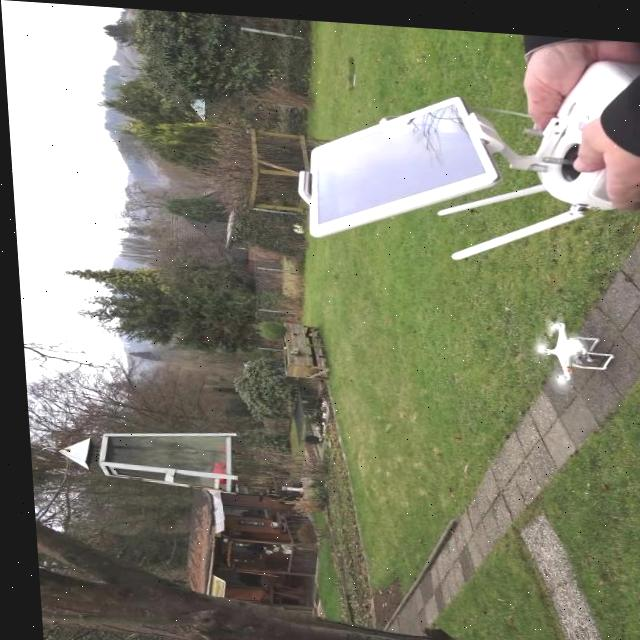drone: (523, 309, 610, 387)
